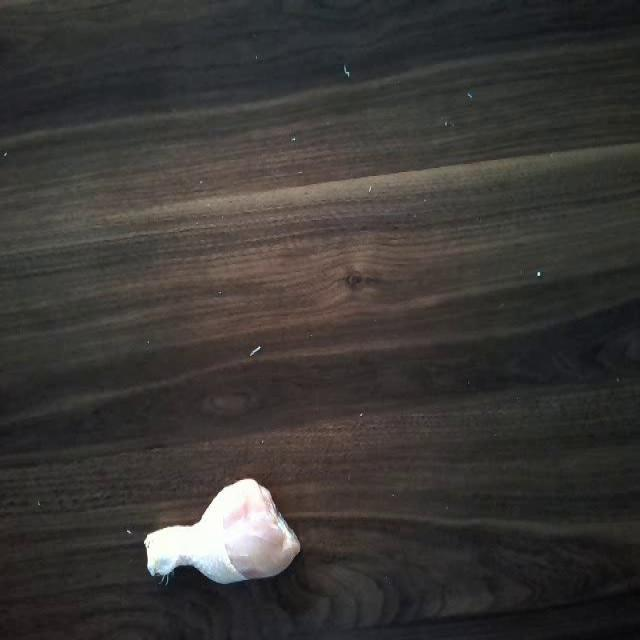leg: (129, 478, 307, 596)
